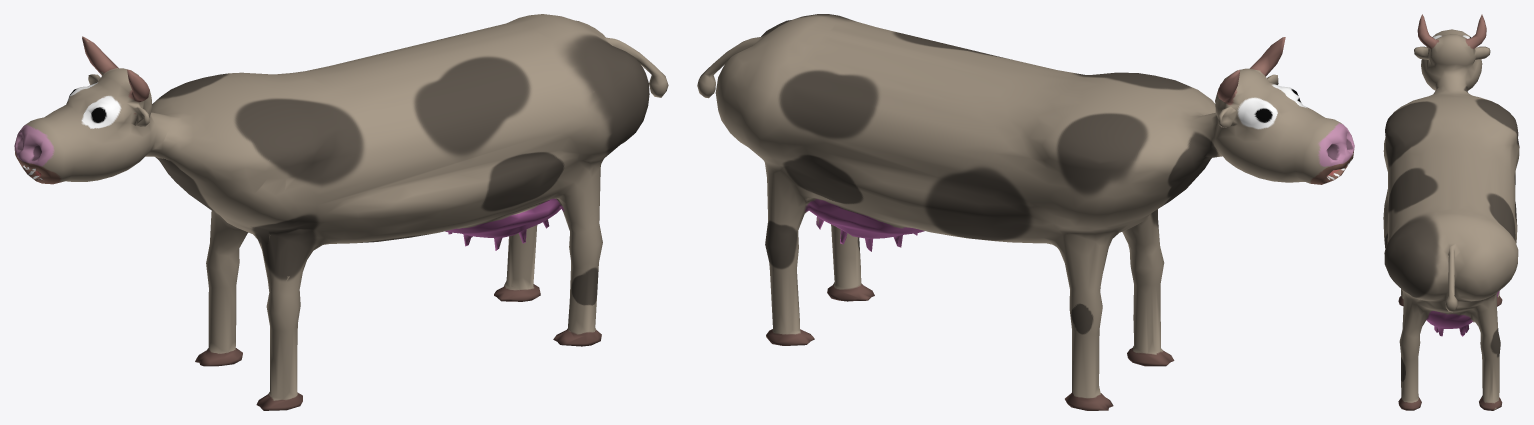
The model's file is krowa_fix.fbx.
The picture shows the model from 3 angles, left to right: view 1: azimuth 30°, elevation 25°; view 2: azimuth 150°, elevation 25°; view 3: azimuth 270°, elevation 25°; orthographic projection. The views are drawn at different scales.
Visible parts, largest first — view 1: export_krowa_v1; view 2: export_krowa_v1; view 3: export_krowa_v1.
Boxes of the visible parts, x1,y1,x2,y2 form: export_krowa_v1: [14, 14, 668, 410]; export_krowa_v1: [697, 14, 1354, 410]; export_krowa_v1: [1383, 14, 1519, 410].
Size of the model in its own units: 8.87 by 4.9 by 2.44.
